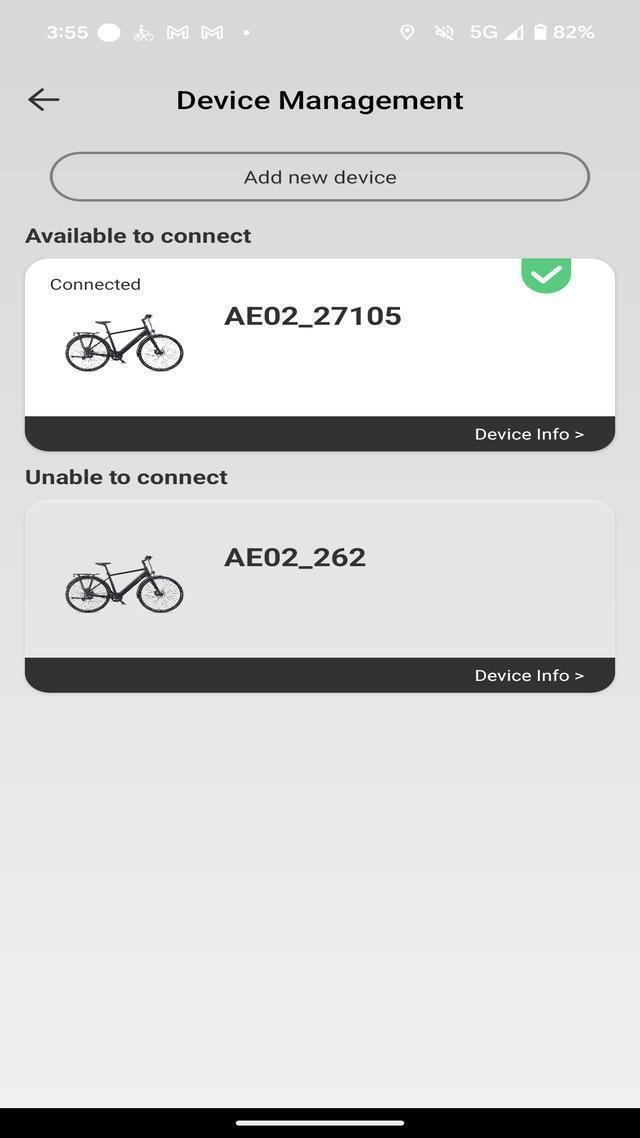Icon: (520, 258, 574, 297), (466, 20, 526, 44), (28, 88, 62, 119), (431, 19, 459, 43), (165, 20, 194, 42), (132, 20, 158, 44), (96, 22, 124, 44), (200, 24, 228, 44), (530, 22, 550, 42), (397, 20, 414, 42), (238, 24, 254, 40)
Image: (59, 314, 190, 383), (61, 548, 188, 617)
Text: (170, 83, 470, 116), (16, 464, 232, 492), (220, 300, 404, 332), (19, 224, 260, 248), (220, 542, 370, 572), (240, 165, 400, 188), (46, 271, 146, 297), (471, 423, 590, 444), (469, 668, 591, 684), (43, 20, 91, 42), (552, 20, 598, 42)
TextButton: (50, 150, 591, 203), (24, 651, 620, 697), (22, 410, 617, 455)
